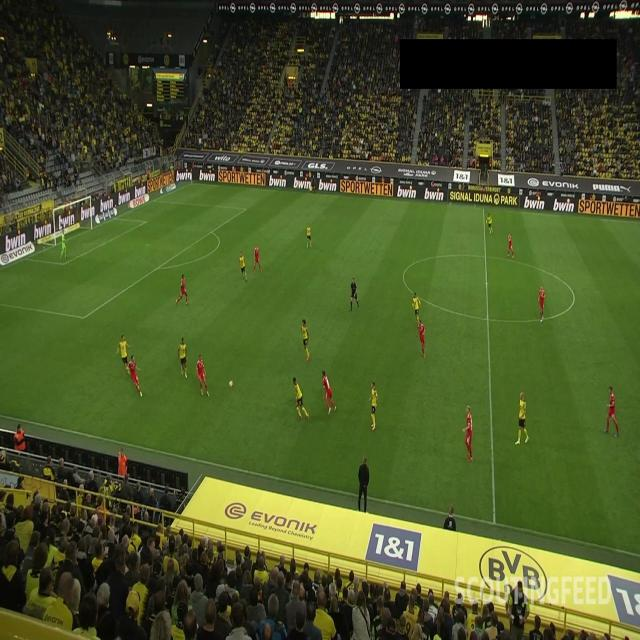goalkeeper: (59, 230, 67, 262)
player: (514, 391, 530, 445), (604, 386, 620, 437), (292, 377, 310, 421), (127, 354, 143, 398), (322, 370, 336, 416), (116, 333, 132, 372), (196, 354, 210, 397), (464, 405, 474, 462), (369, 381, 378, 431), (178, 337, 188, 379), (301, 318, 310, 361), (176, 274, 188, 306), (417, 318, 426, 358), (412, 291, 422, 323), (238, 250, 248, 282), (538, 285, 546, 323), (253, 243, 263, 273), (506, 233, 514, 260), (306, 221, 312, 249), (486, 212, 493, 234)
referee: (349, 277, 358, 311), (309, 173, 316, 195)
